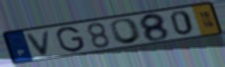0: (169, 9, 195, 37)
8: (138, 12, 172, 43), (87, 22, 111, 49)
G: (55, 26, 86, 53)
O: (109, 17, 145, 45)
V: (25, 29, 53, 57)
